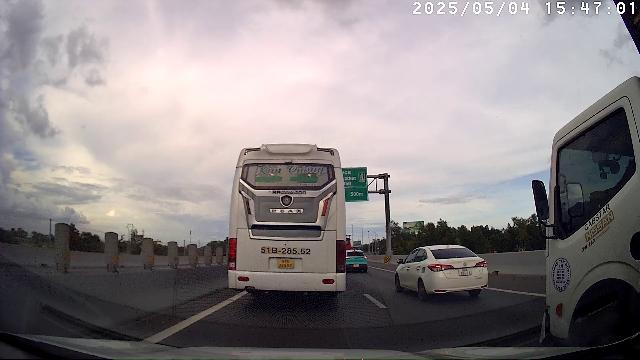438-ket-thuc-duong-cao-toc: (358, 171, 366, 182)
